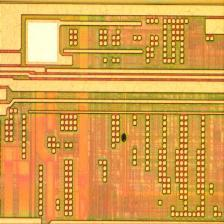PARTICLE: (117, 131, 133, 147)
